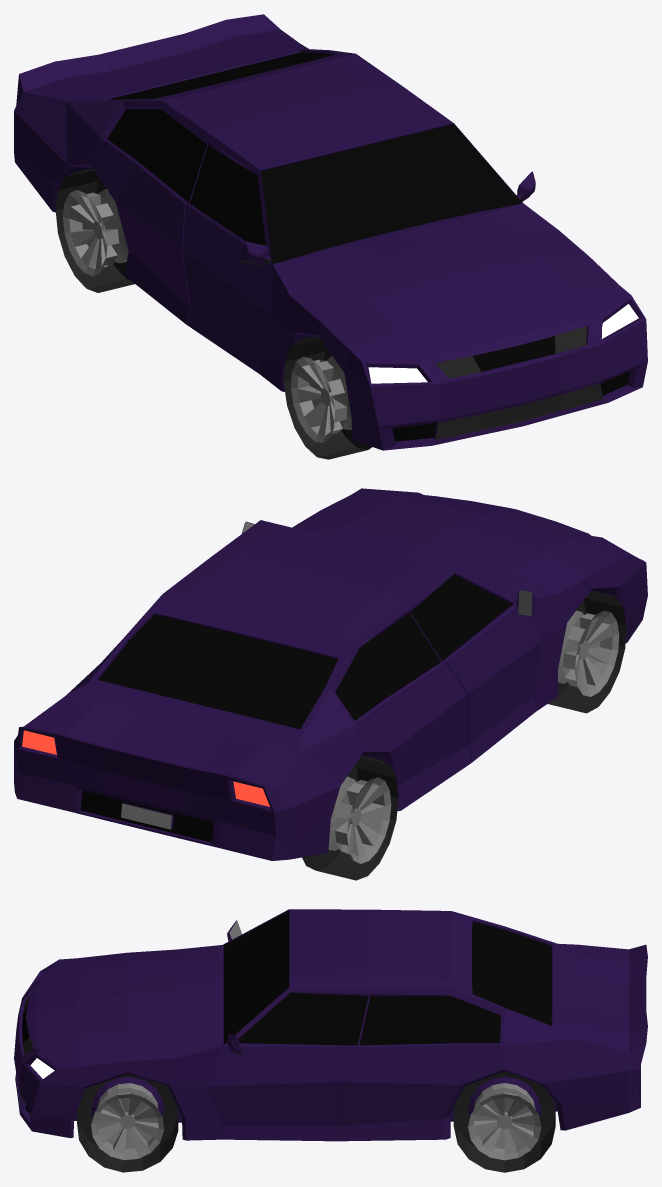
File: purpleCar.glb
The picture shows the model from 3 angles, top to bottom: view 1: azimuth 30°, elevation 25°; view 2: azimuth 150°, elevation 25°; view 3: azimuth 270°, elevation 25°; orthographic projection. The views are drawn at different scales.
Visible parts, largest first — view 1: Cube_0; view 2: Cube_0; view 3: Cube_0.
Part boxes in pixels (x1,y1,x2,y2): Cube_0: (14,14,647,459); Cube_0: (14,488,647,880); Cube_0: (14,909,647,1172).
Size of the model in its own units: 1.63 by 1.1 by 3.68.
